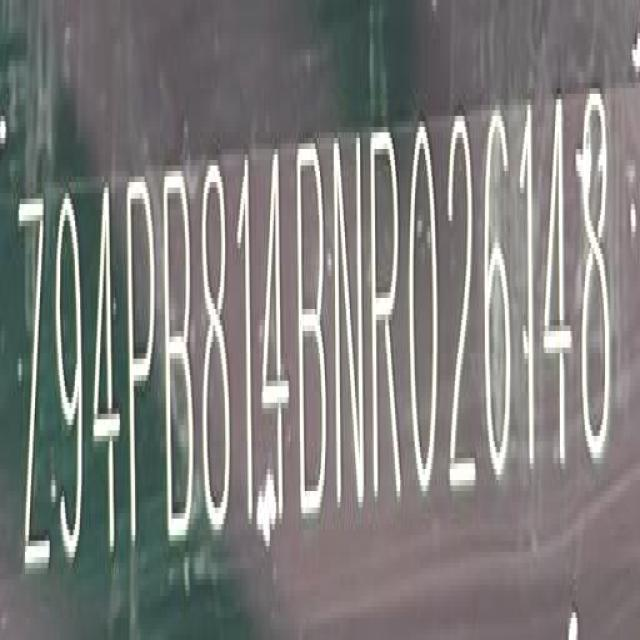0: (408, 116, 440, 501)
1: (516, 94, 538, 482), (236, 156, 252, 538)
2: (448, 112, 480, 502)
4: (259, 147, 293, 529), (92, 177, 124, 573), (542, 98, 574, 476)
6: (483, 105, 514, 489)
8: (581, 84, 615, 472), (200, 162, 231, 544)
9: (51, 190, 84, 578)
B: (162, 161, 196, 554), (296, 141, 330, 523)
N: (334, 130, 366, 518)
P: (128, 168, 160, 560)
R: (369, 126, 403, 512)
Z: (19, 194, 48, 590)
